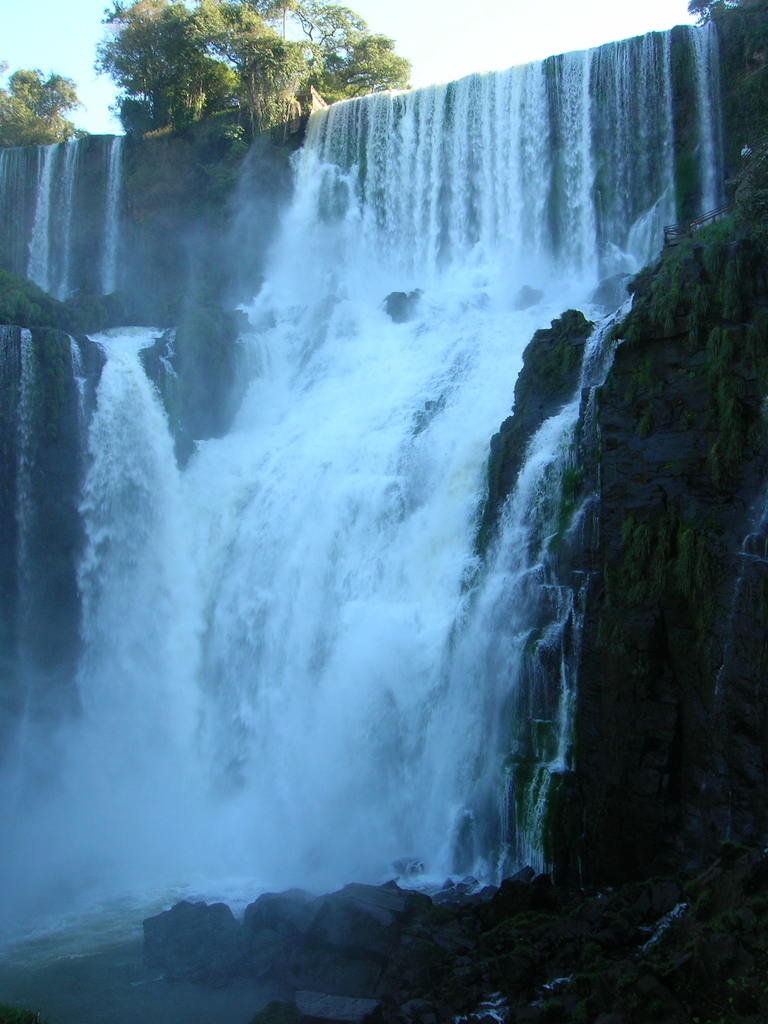Tree: (87, 0, 421, 130), (0, 67, 81, 139)
